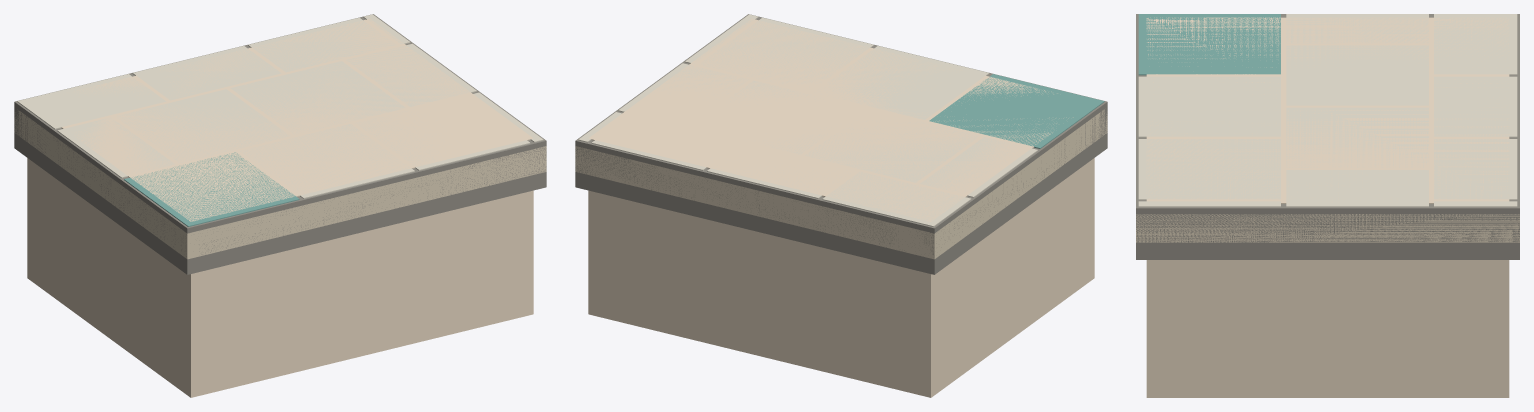
Rendered from ClockTowerTerraceStep02.glb.
The picture shows the model from 3 angles, left to right: view 1: azimuth 30°, elevation 25°; view 2: azimuth 150°, elevation 25°; view 3: azimuth 270°, elevation 25°; orthographic projection. The views are drawn at different scales.
Parts seen in each view (by area): view 1: ClockTowerTerraceStep02; view 2: ClockTowerTerraceStep02; view 3: ClockTowerTerraceStep02.
Part boxes in pixels (left/top/right/bottom): ClockTowerTerraceStep02: left=14, top=14, right=546, bottom=397; ClockTowerTerraceStep02: left=575, top=14, right=1107, bottom=397; ClockTowerTerraceStep02: left=1136, top=14, right=1519, bottom=397.
Bounding box in the file's own units: 2.18 × 1.02 × 1.82.
